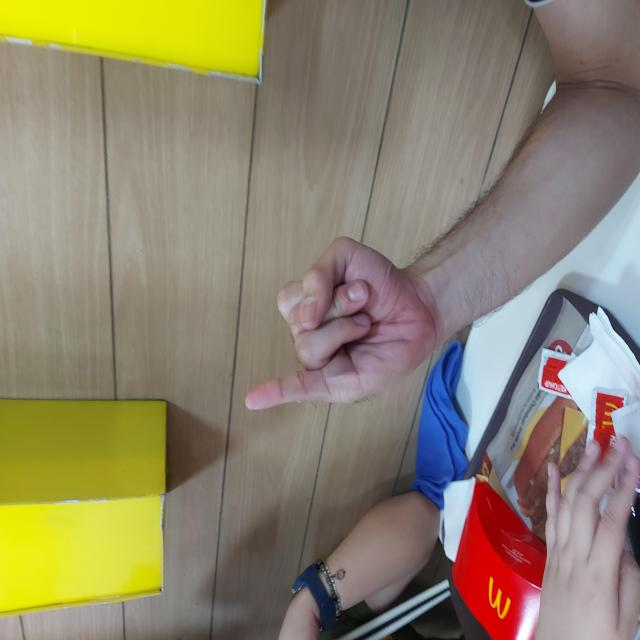I: (227, 241, 408, 433)
